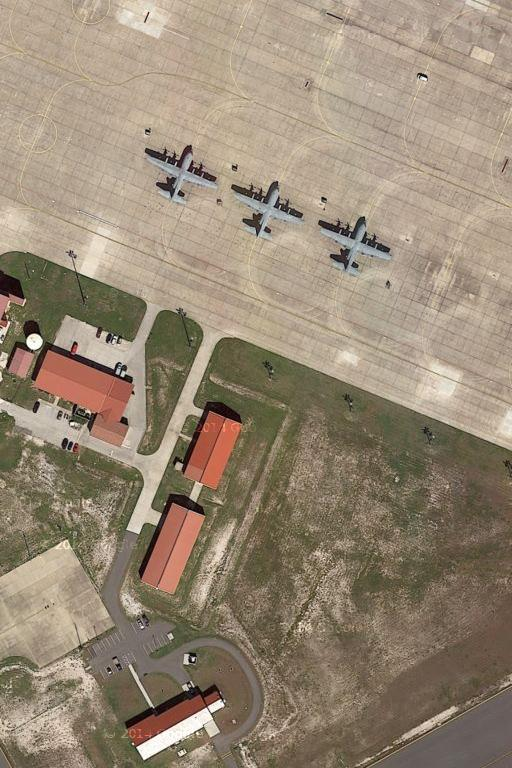C-130: (316, 215, 394, 276), (141, 148, 224, 205), (233, 184, 307, 240)
